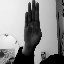b: (20, 1, 44, 51)
